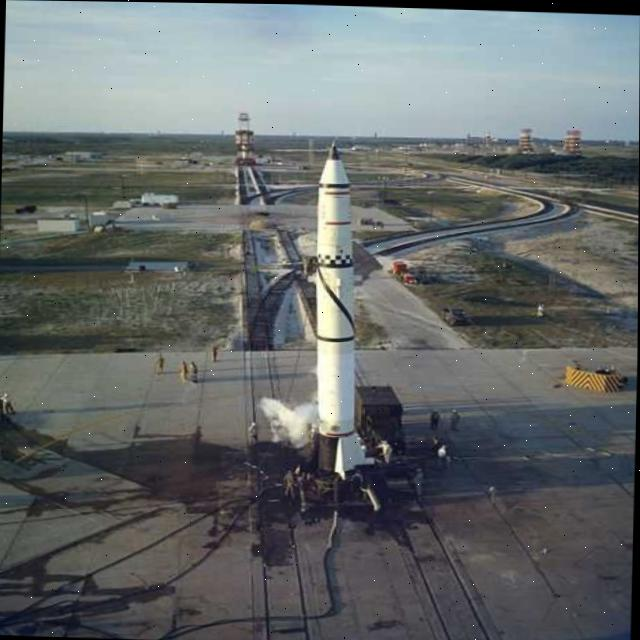missile: (294, 136, 394, 476)
